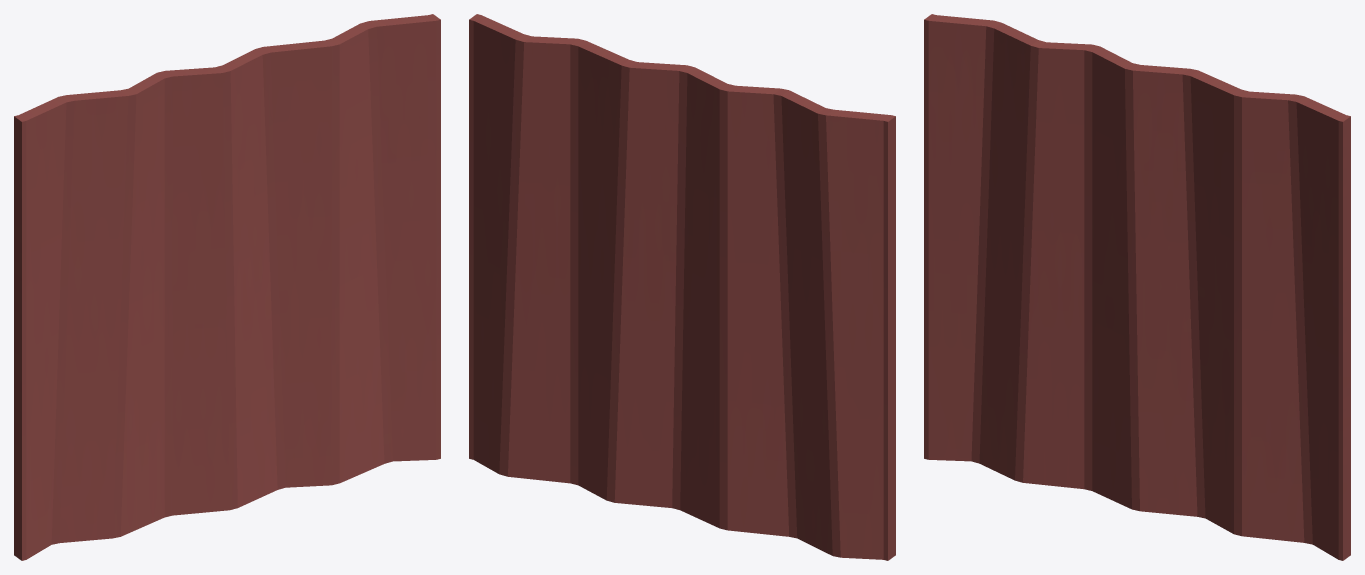
File: metal_board_1.glb
The picture shows the model from 3 angles, left to right: view 1: azimuth 30°, elevation 25°; view 2: azimuth 150°, elevation 25°; view 3: azimuth 330°, elevation 25°; orthographic projection.
Parts seen in each view (by area): view 1: metal_board_1; view 2: metal_board_1; view 3: metal_board_1.
Boxes of the visible parts, x1=… form: metal_board_1: x1=14, y1=14, x2=440, y2=560; metal_board_1: x1=469, y1=14, x2=895, y2=560; metal_board_1: x1=924, y1=14, x2=1350, y2=560.
Bounding box in the file's own units: 1.11 × 1.11 × 0.076.
Materials: 1 (1 with a texture image).
